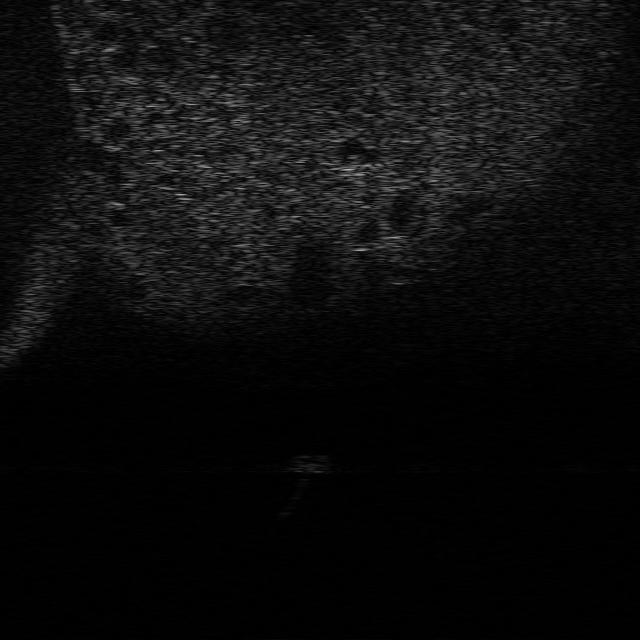cube: (288, 452, 332, 474)
